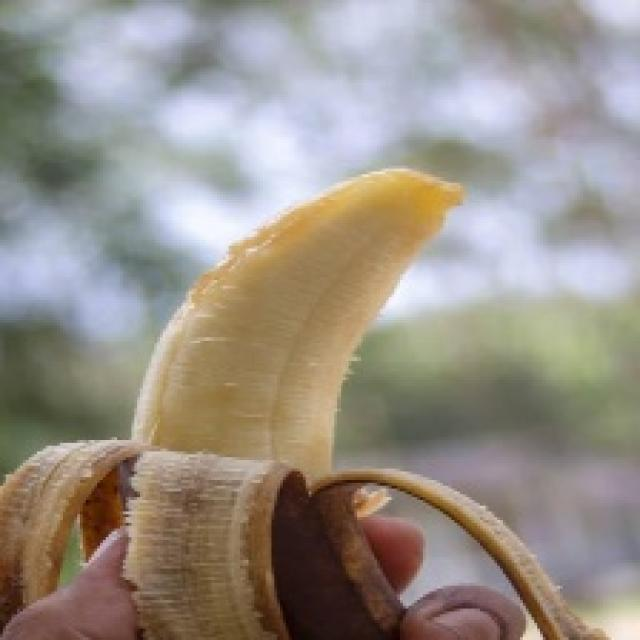Banana: (0, 162, 634, 637)
